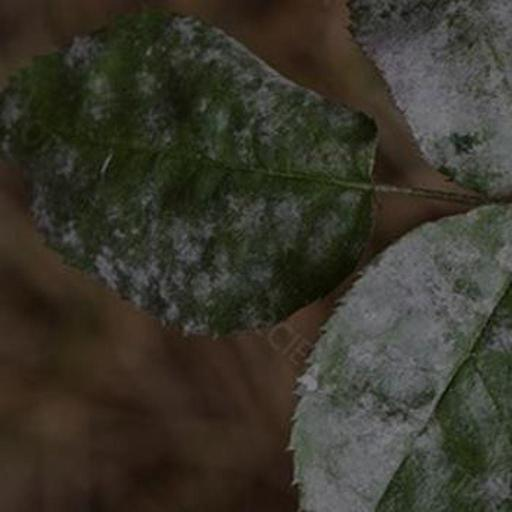powdery_mildew: (0, 12, 376, 335), (293, 204, 512, 512), (348, 0, 512, 196)
